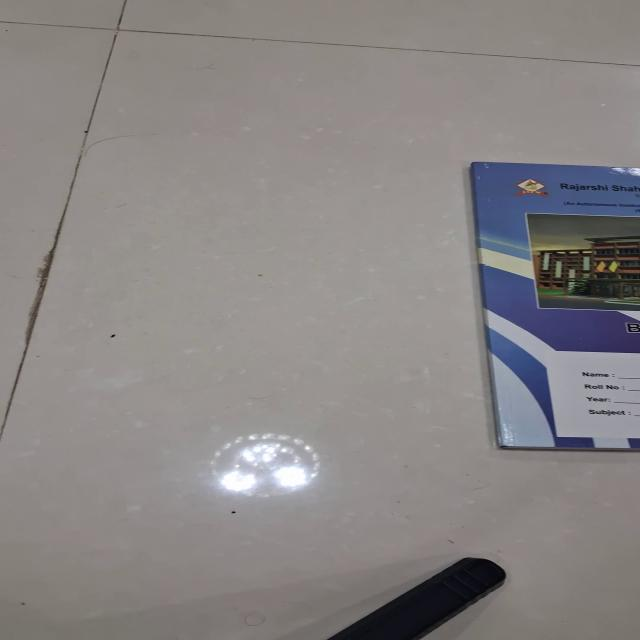paper: (469, 161, 639, 450)
